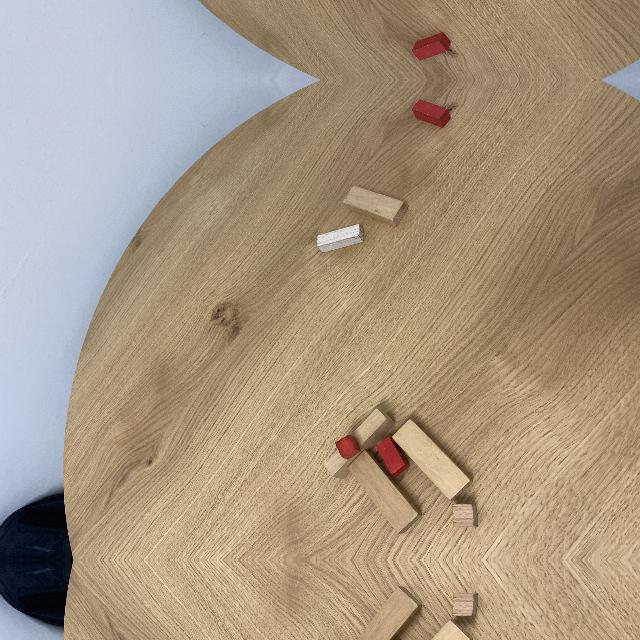block: (317, 224, 363, 253)
cube: (452, 504, 478, 526), (452, 594, 478, 616)
jenga: (391, 419, 473, 502), (347, 450, 422, 534), (324, 408, 396, 479), (357, 586, 422, 640), (343, 185, 408, 226)
red block: (376, 437, 410, 476), (412, 99, 451, 128), (412, 32, 451, 61)
red cube: (335, 434, 362, 460)
